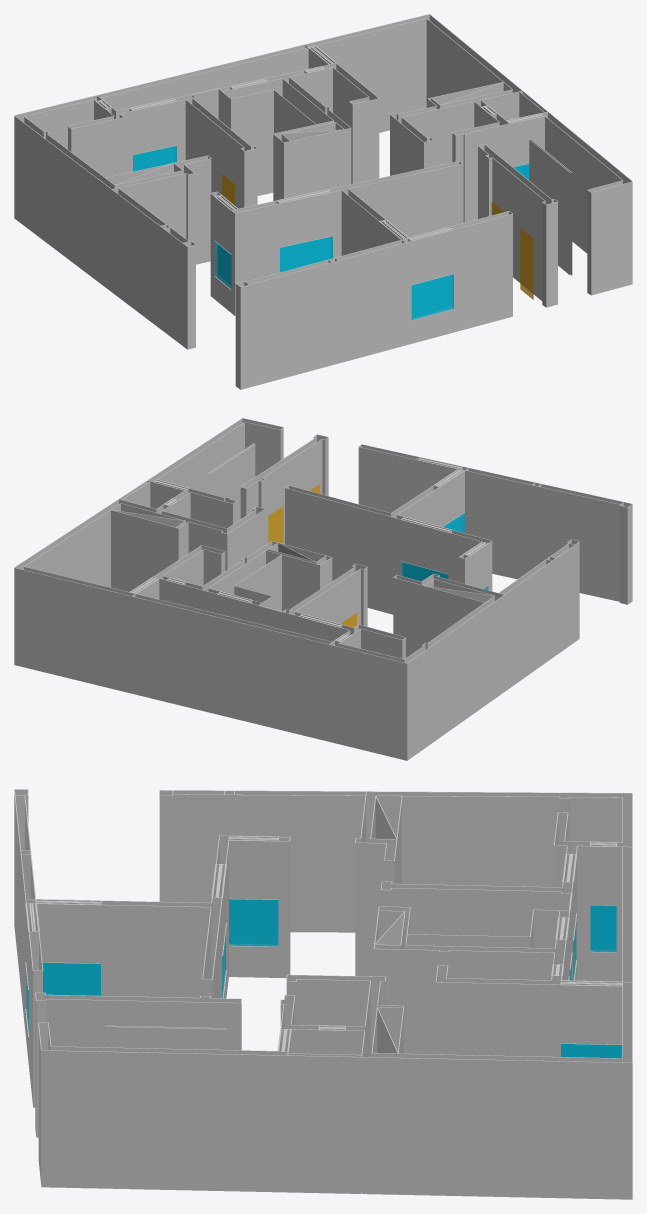
3 views of the same model, one above another, from view 1: azimuth 30°, elevation 25°; view 2: azimuth 150°, elevation 25°; view 3: azimuth 270°, elevation 25° (orthographic). The views are drawn at different scales.
Visible parts, largest first — view 1: walls, roof, windows, doors; view 2: walls, roof, windows, doors; view 3: walls, roof, windows.
Boxes of the visible parts, x1,y1,x2,y2 form: walls: (14, 14, 632, 389); roof: (14, 14, 632, 286); windows: (133, 145, 529, 320); doors: (222, 174, 533, 299); walls: (14, 418, 632, 760); roof: (14, 418, 632, 663); windows: (401, 513, 488, 589); doors: (268, 484, 356, 627); walls: (14, 789, 632, 1199); roof: (14, 789, 632, 1062); windows: (26, 899, 622, 1058).
Size of the model in its own units: 15.01 by 3.5 by 14.34.
